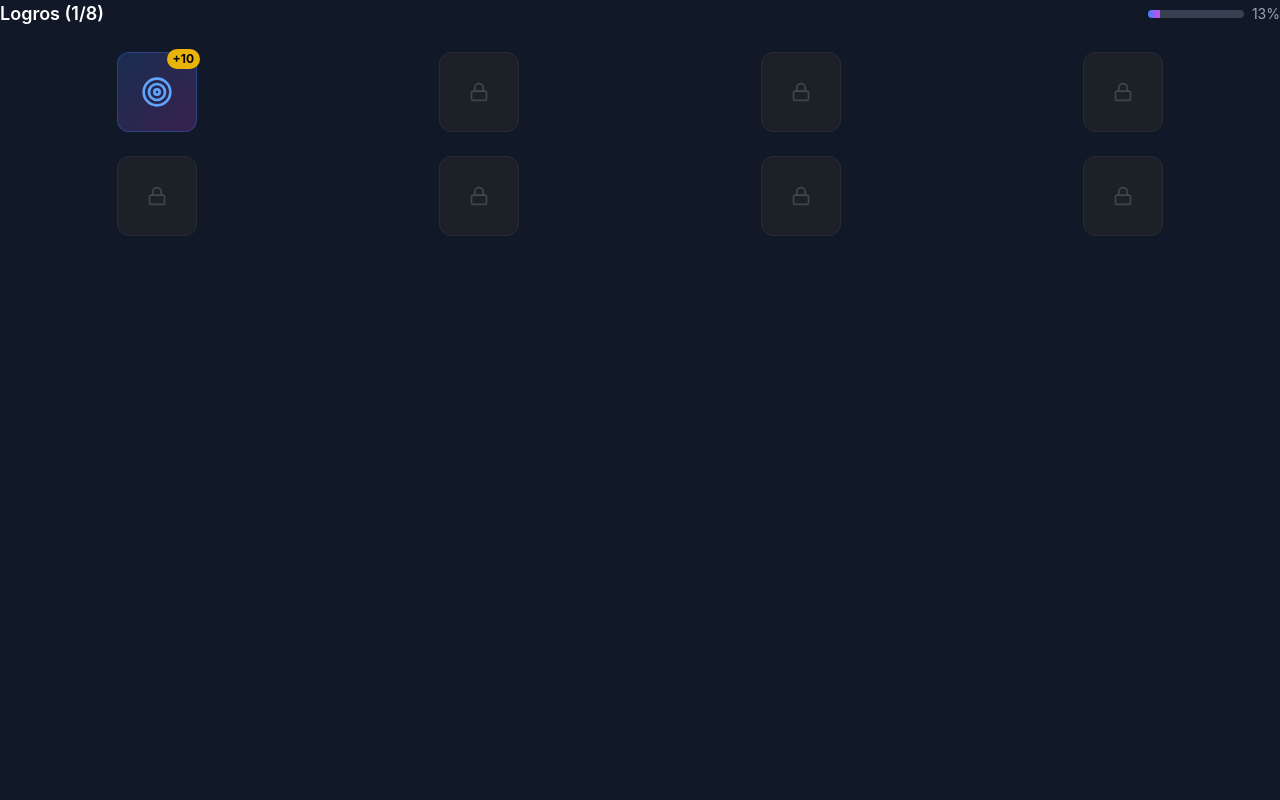
Test case: BadgeGrid › modal › should open modal when badge is clicked
Click the button "+10" at (157, 92), box [0,44,314,140]
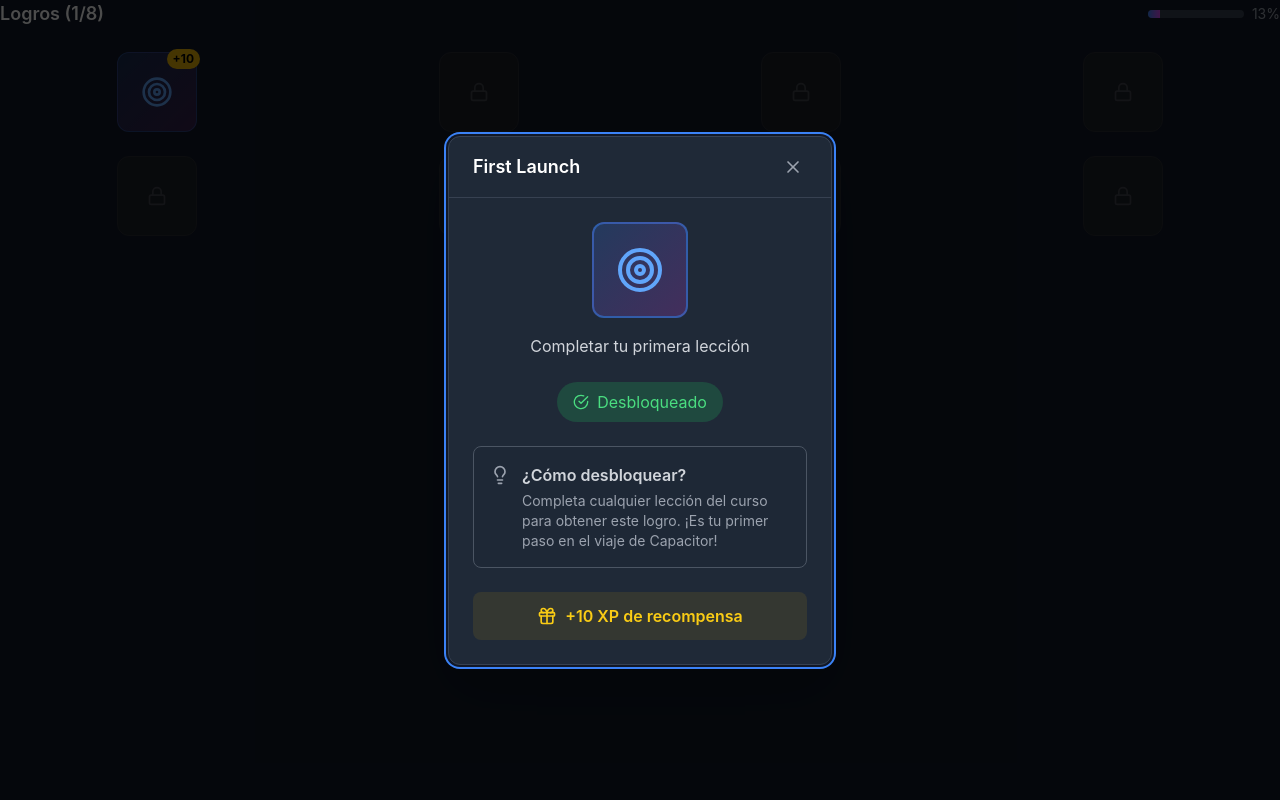
Check: the dialog is shown
